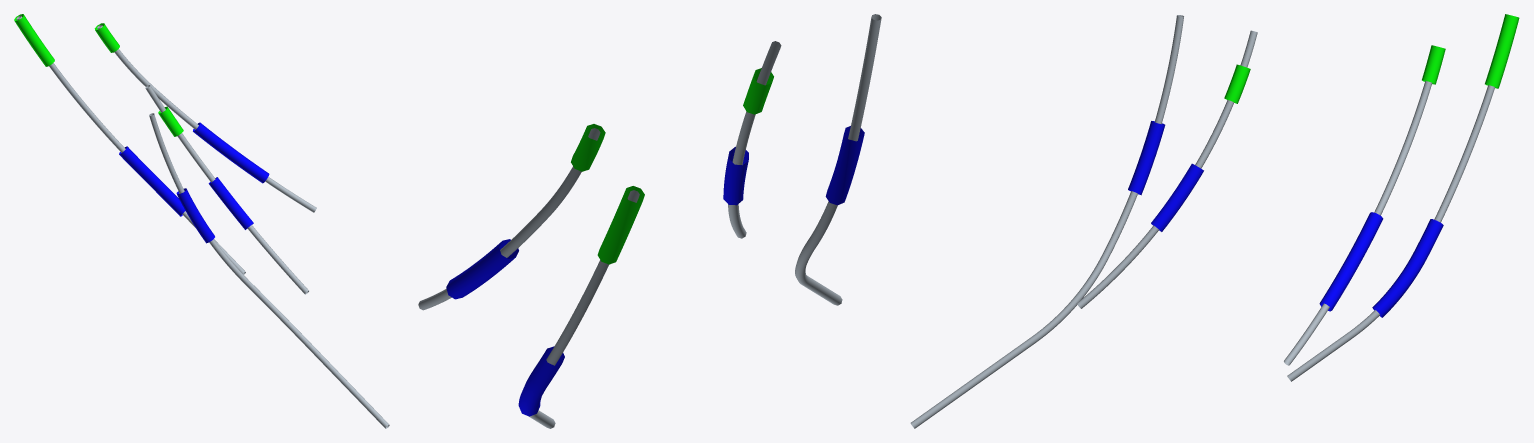
Rendered from desurvey.glb.
The picture shows the model from 3 angles, left to right: view 1: azimuth 30°, elevation 25°; view 2: azimuth 150°, elevation 25°; view 3: azimuth 270°, elevation 25°; orthographic projection. The views are drawn at different scales.
Bounding box in the file's own units: 83.25 × 101 × 165.
